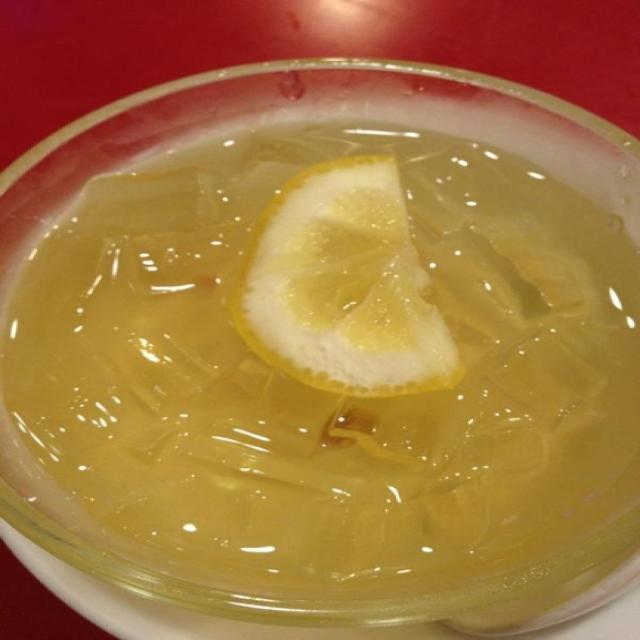蛋糕甜品: (21, 71, 625, 626)
